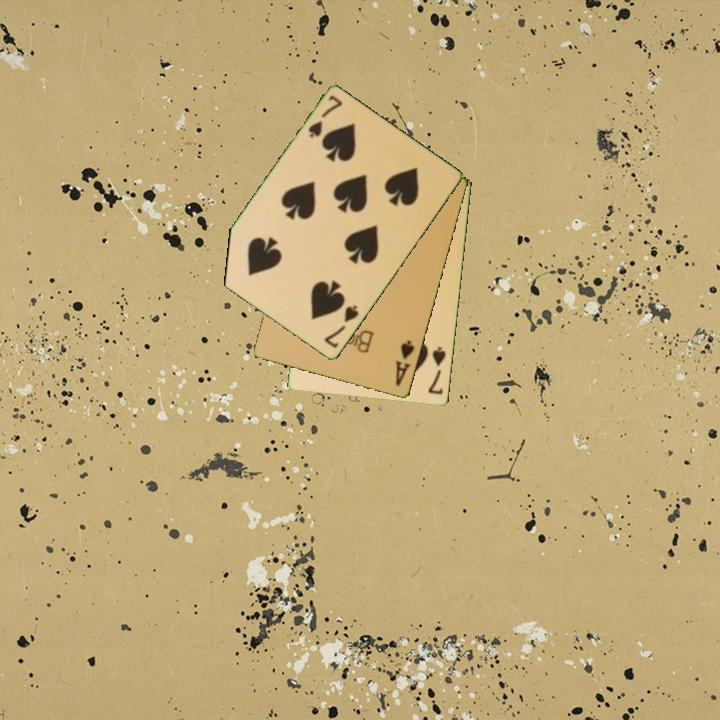7s: (320, 302, 362, 351), (304, 92, 345, 141), (425, 344, 449, 398)
As: (392, 337, 418, 389)
